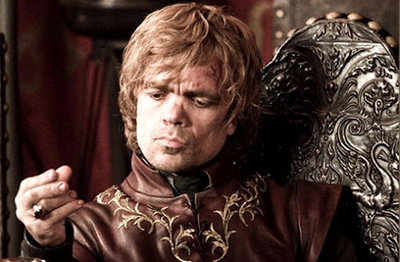mindinho: (46, 193, 90, 236)
